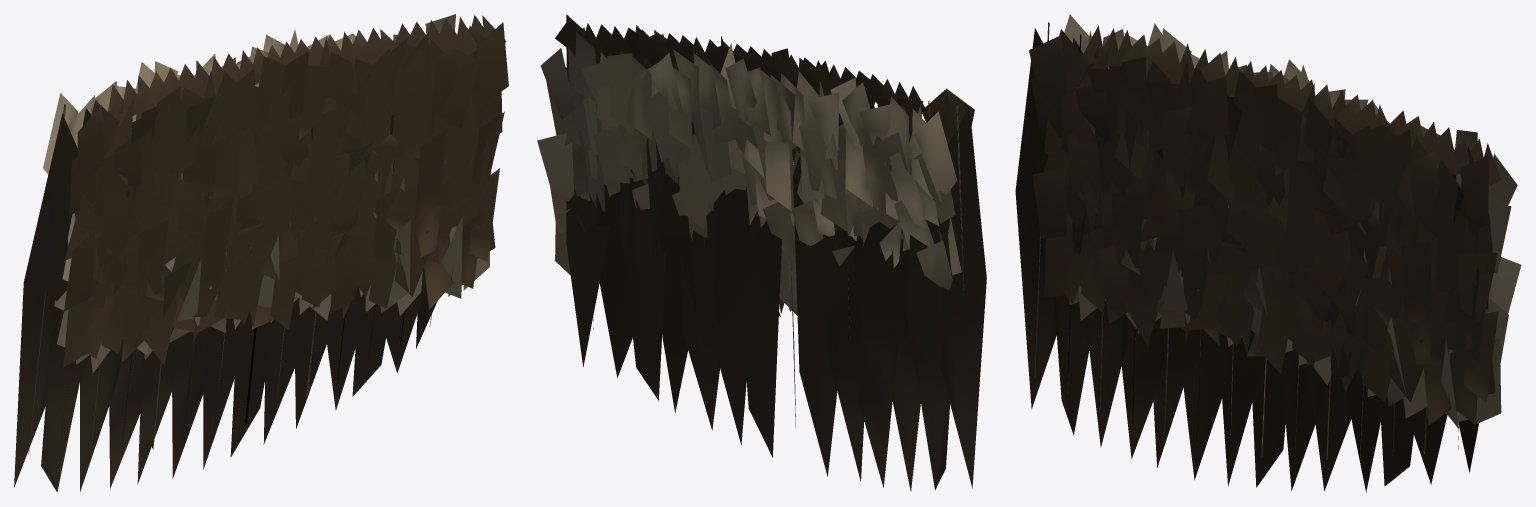
Rendered from bird_shoulder_left.obj.
The picture shows the model from 3 angles, left to right: view 1: azimuth 30°, elevation 25°; view 2: azimuth 150°, elevation 25°; view 3: azimuth 330°, elevation 25°; orthographic projection. The views are drawn at different scales.
Parts seen in each view (by area): view 1: PIECE_BIRD_SHOULDER_-1; view 2: PIECE_BIRD_SHOULDER_-1; view 3: PIECE_BIRD_SHOULDER_-1.
Part boxes in pixels (x1,y1,x2,y2): PIECE_BIRD_SHOULDER_-1: (14,14,508,492); PIECE_BIRD_SHOULDER_-1: (537,14,986,491); PIECE_BIRD_SHOULDER_-1: (1015,14,1521,492).
Bounding box in the file's own units: 0.2935 × 0.2553 × 0.0431.
Materials: 1 (1 with a texture image).
